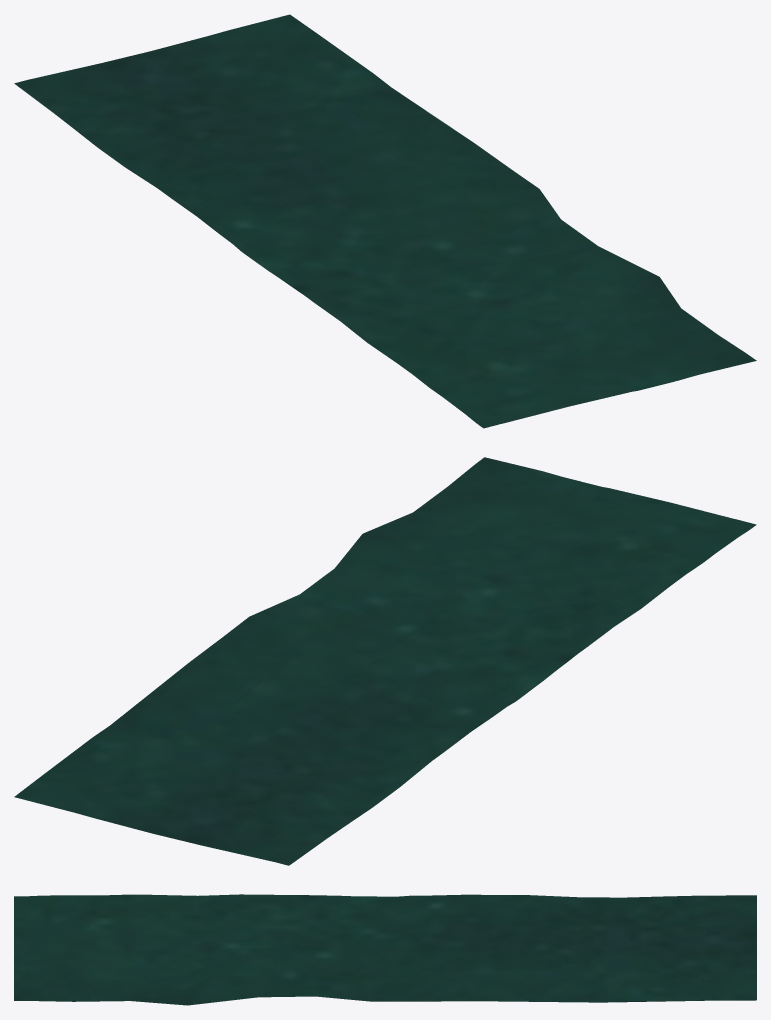
3 views of the same model, one above another, from view 1: azimuth 30°, elevation 25°; view 2: azimuth 150°, elevation 25°; view 3: azimuth 270°, elevation 25° (orthographic). The views are drawn at different scales.
Bounding box in the file's own units: 18.36 × 0.437 × 52.22.
1 material, 1 textured.
